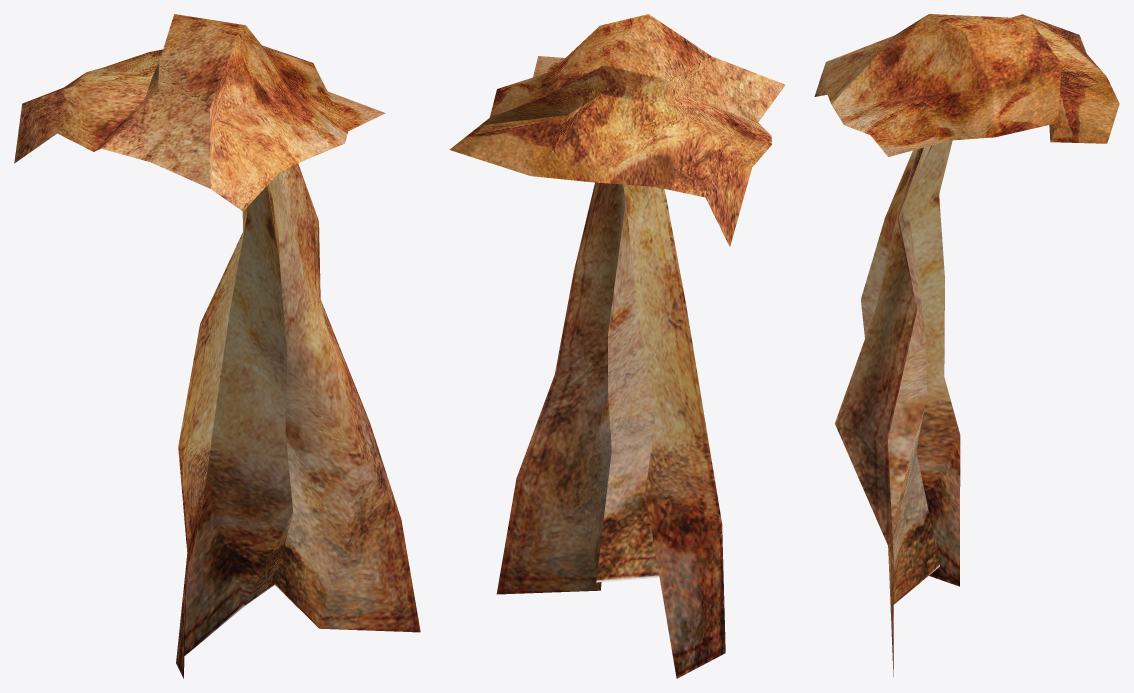
File: dirty_rag.FBX
3 renders of one model, left to right at view 1: azimuth 30°, elevation 25°; view 2: azimuth 150°, elevation 25°; view 3: azimuth 270°, elevation 25°, orthographic. The views are drawn at different scales.
Parts seen in each view (by area): view 1: dirty_rag_01, dirty_rag_02; view 2: dirty_rag_01, dirty_rag_02; view 3: dirty_rag_01, dirty_rag_02.
Boxes of the visible parts, bbox=[...] form: dirty_rag_01: bbox=[176, 164, 420, 678]; dirty_rag_02: bbox=[14, 14, 385, 211]; dirty_rag_01: bbox=[496, 182, 725, 678]; dirty_rag_02: bbox=[449, 14, 785, 246]; dirty_rag_01: bbox=[835, 140, 960, 676]; dirty_rag_02: bbox=[814, 14, 1119, 156].
Bounding box in the file's own units: 0.2722 × 0.5122 × 0.2391.
